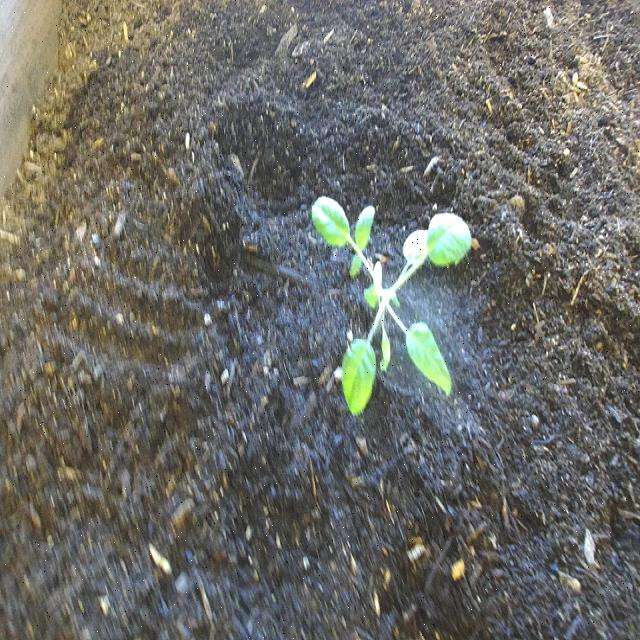Healthy: (302, 180, 478, 425)
